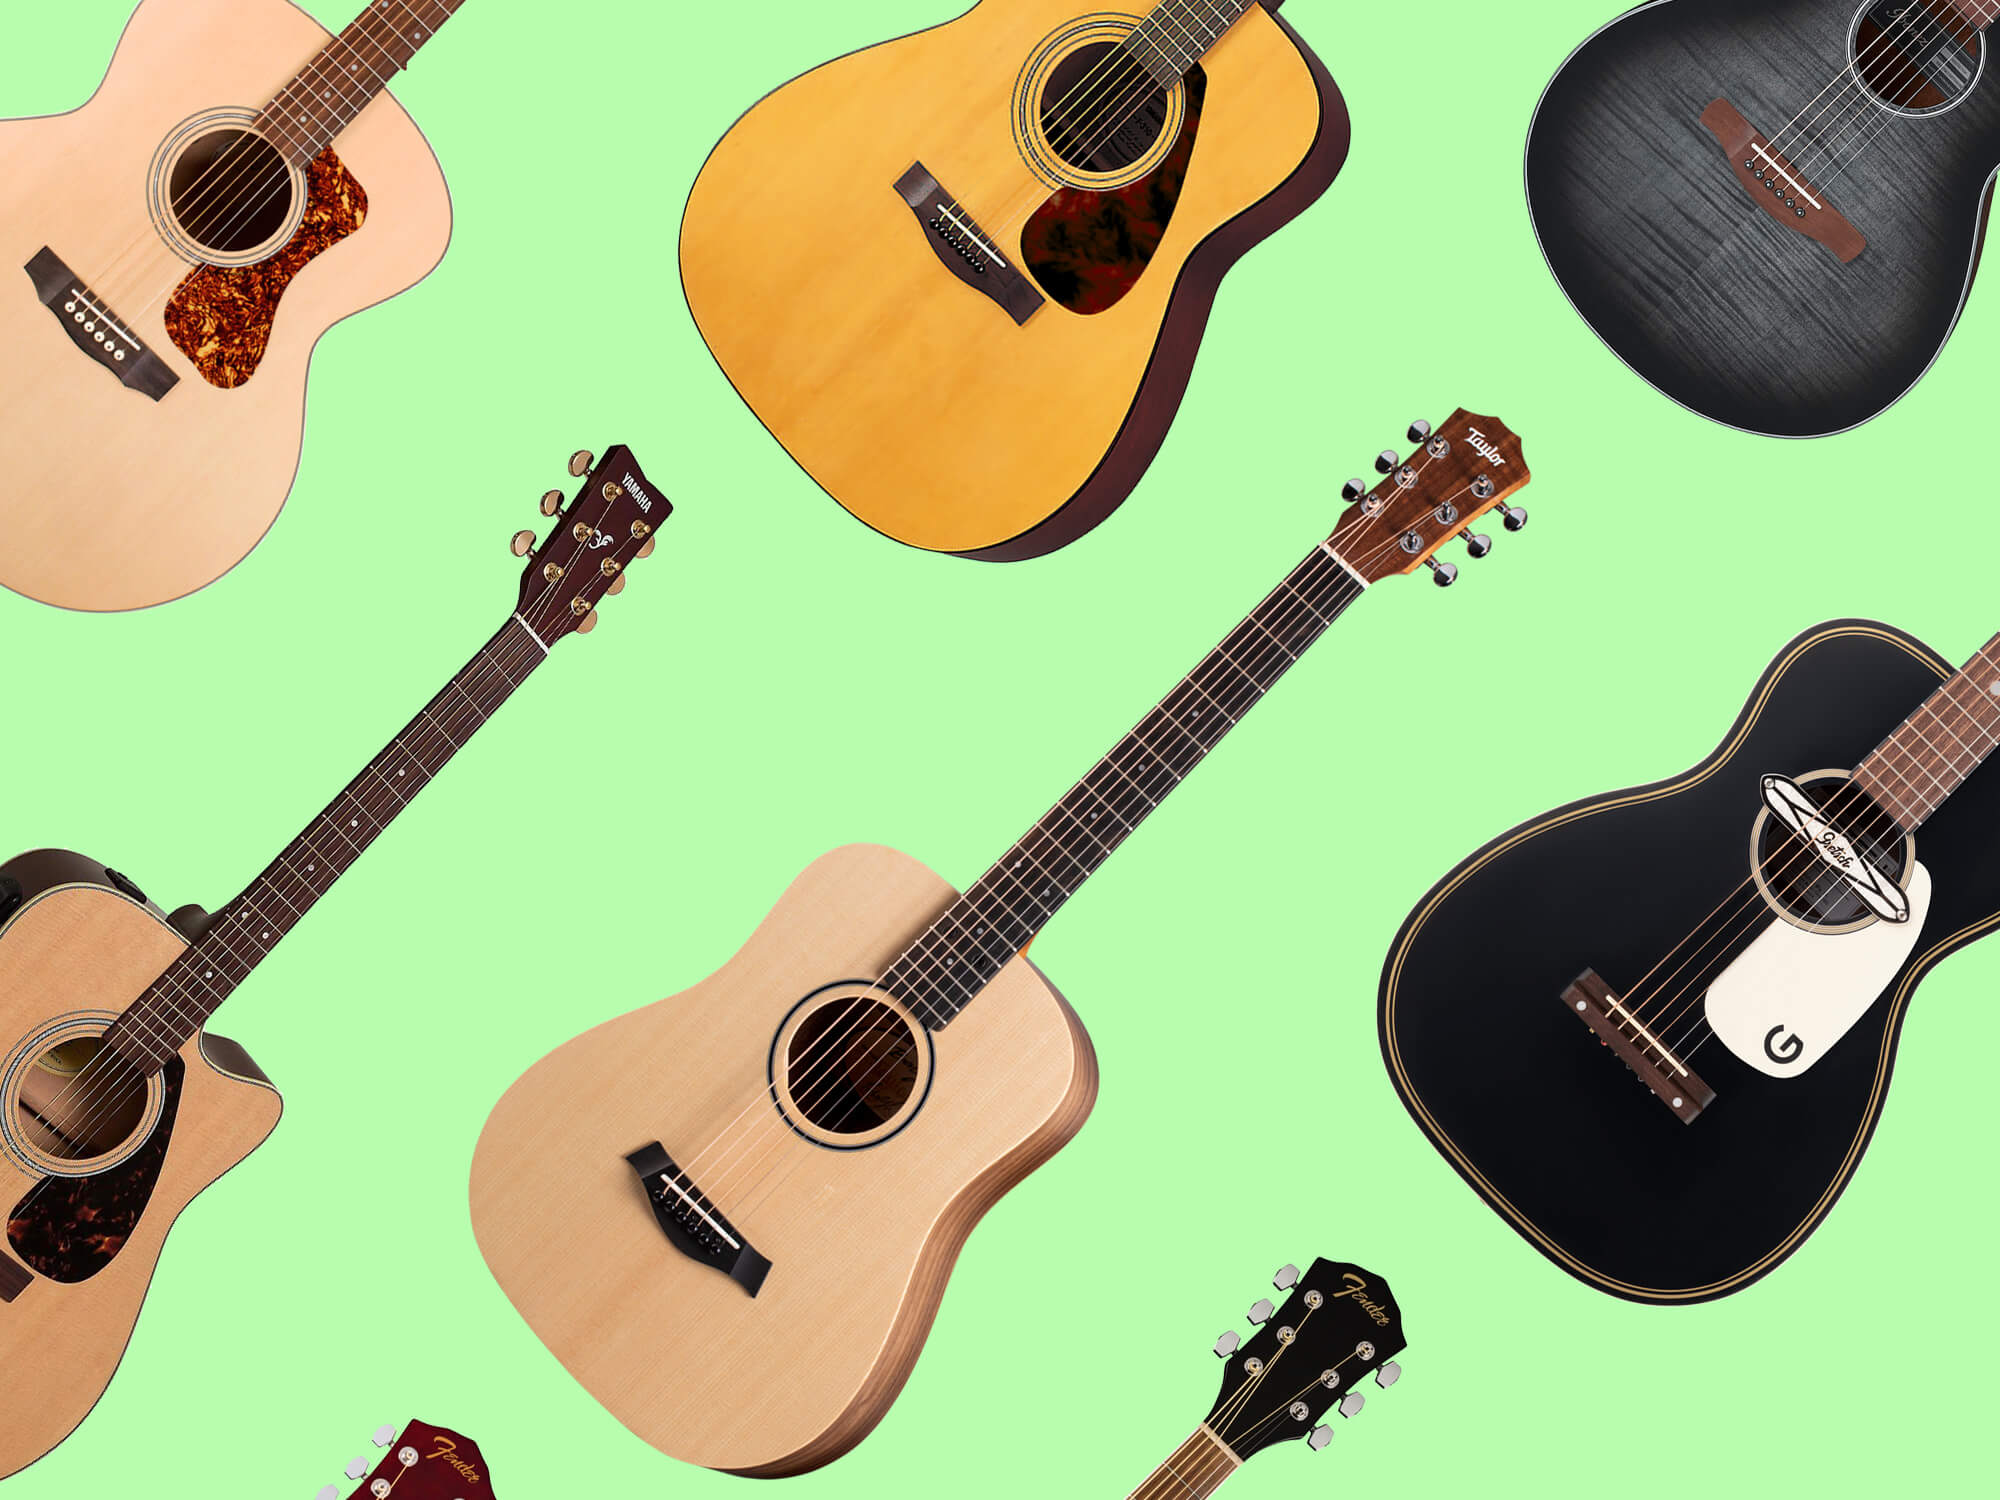guitar: (466, 405, 1535, 1484), (0, 440, 677, 1495), (1381, 216, 2000, 1312), (0, 0, 1022, 621), (674, 0, 1361, 566), (413, 1256, 1411, 1500)
